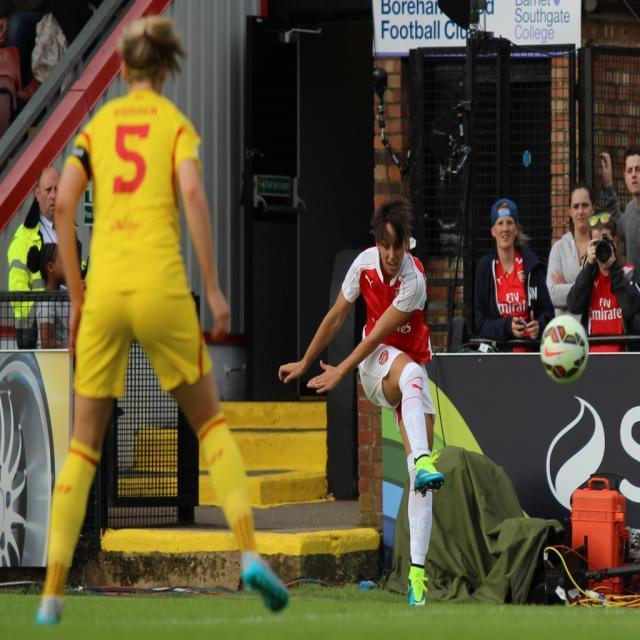football: (512, 306, 603, 400)
